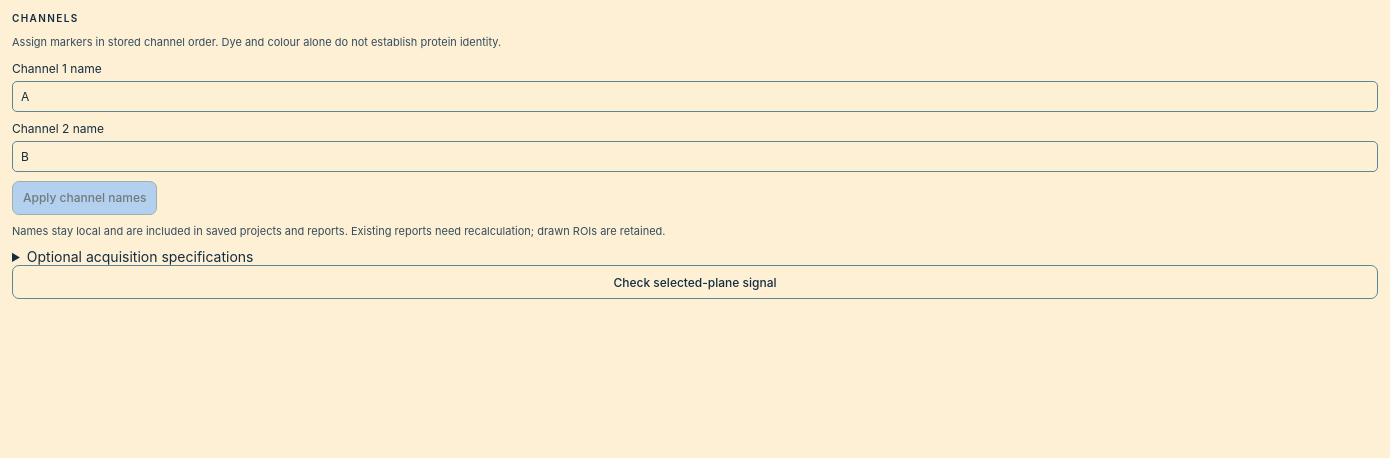
Test case: shows selected-plane quality scope without treating storage counts as detector saturation
Click the button "Check selected-plane signal". click: coordinates (695, 282)
box: [12, 265, 1378, 299]
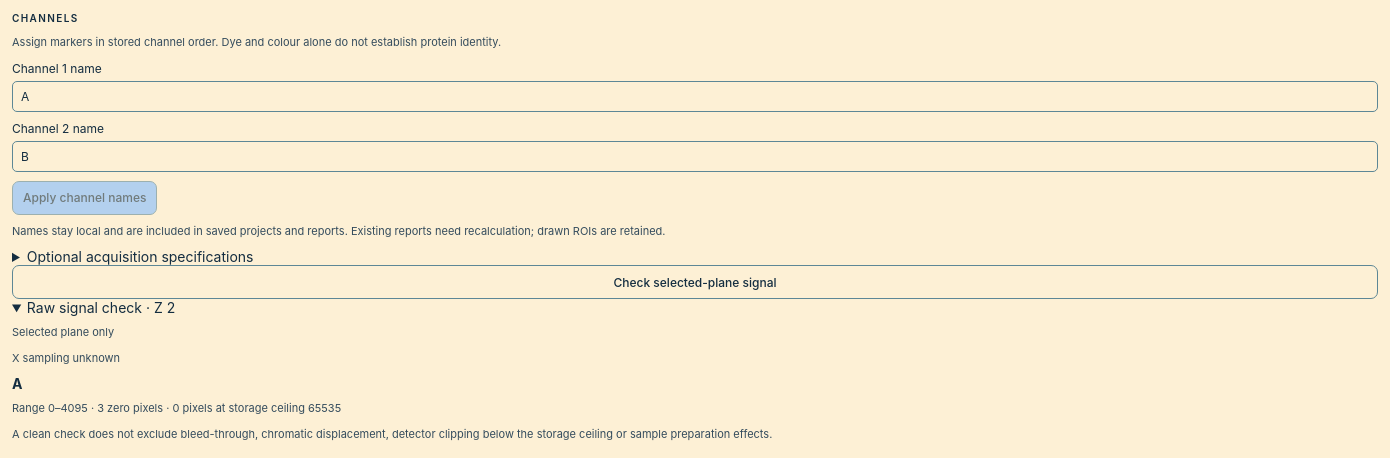
Expected: the text "Selected plane only" is shown, [12, 325, 114, 339]
Expected: the text "clipping below the storage ceiling" is shown, [12, 427, 772, 441]
